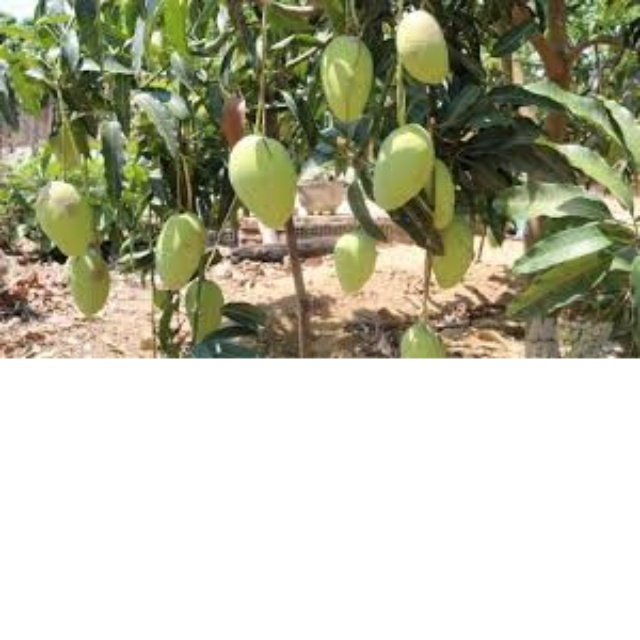thanh_long: (223, 137, 309, 232), (370, 133, 441, 213), (390, 8, 457, 91), (33, 177, 97, 261), (322, 32, 375, 126), (149, 208, 205, 295), (60, 249, 120, 321), (327, 225, 378, 303)
